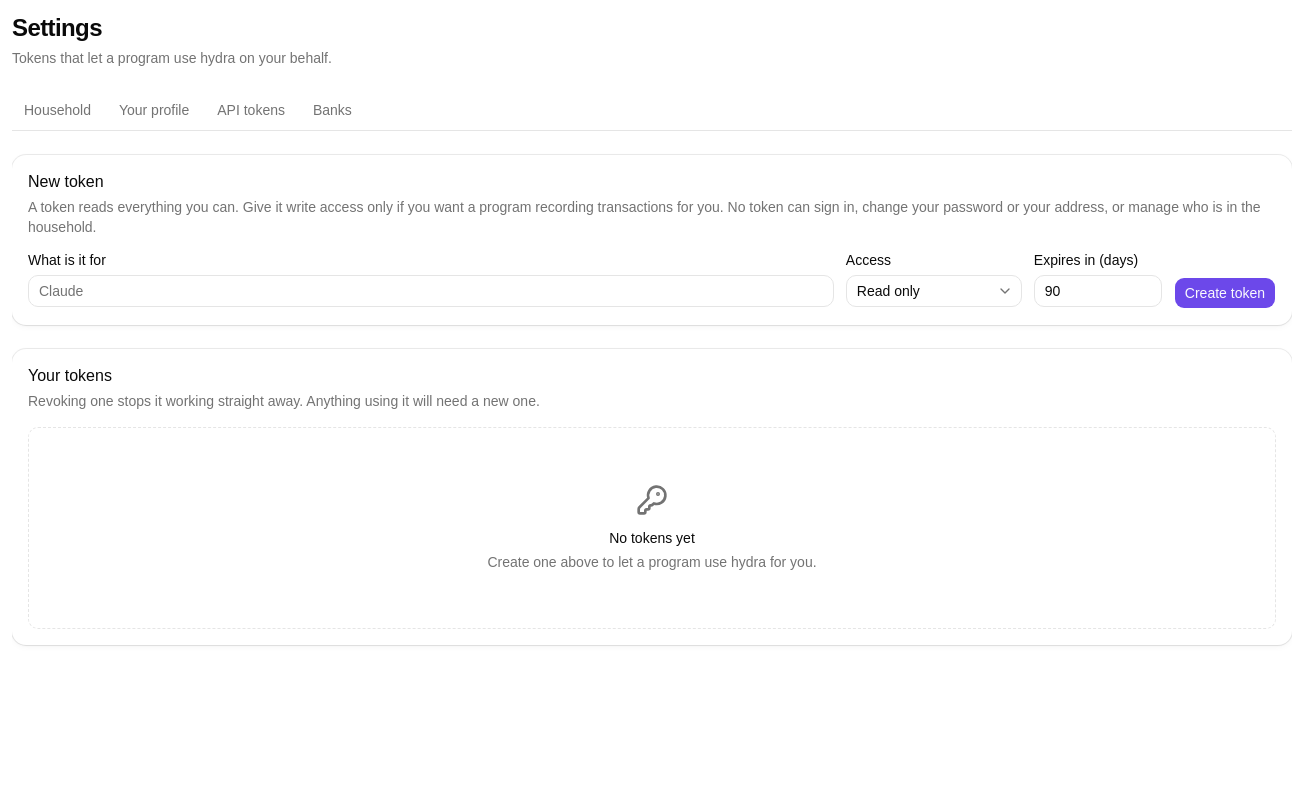
it: creating a token › will not send a nameless token
Step 1. Click the button "Create token" → (1225, 293), box [1174, 277, 1276, 309]
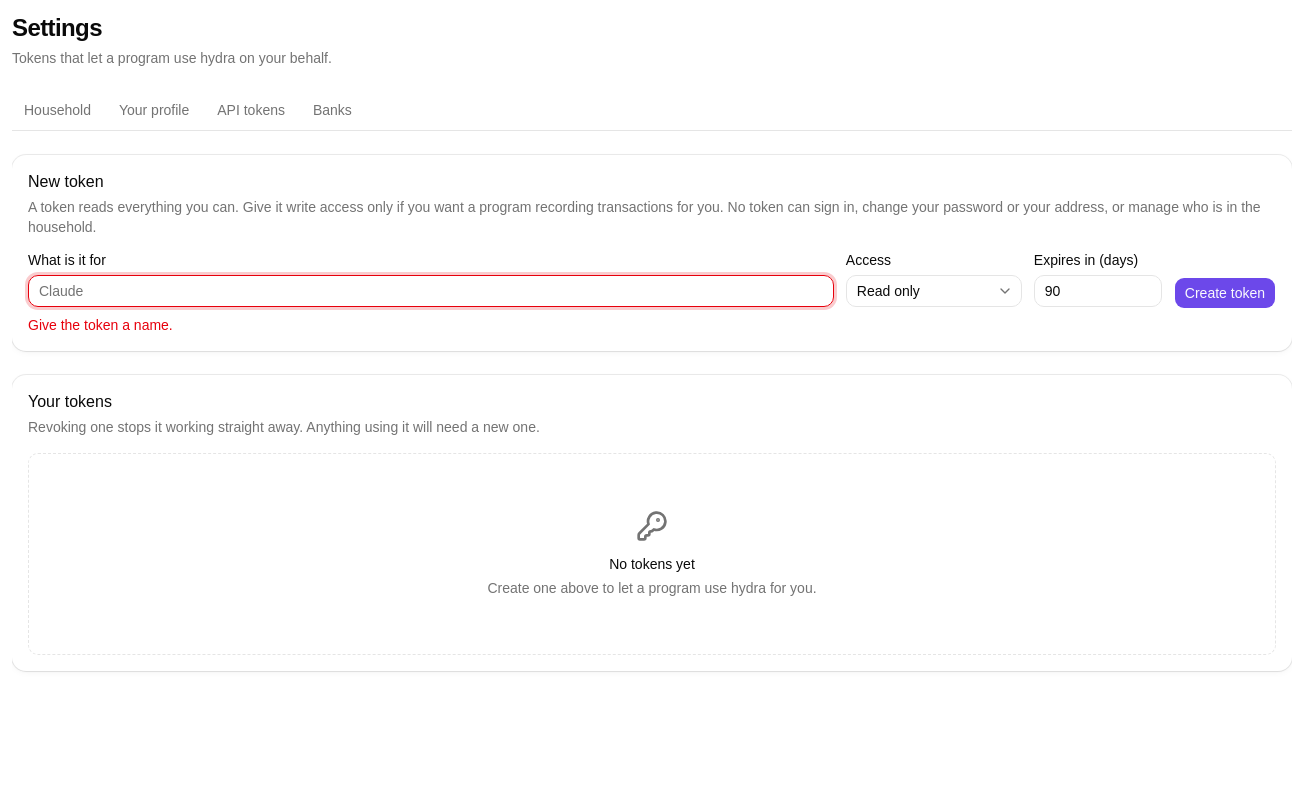
Check: the text "Give the token a name." is shown, box [28, 317, 173, 333]
